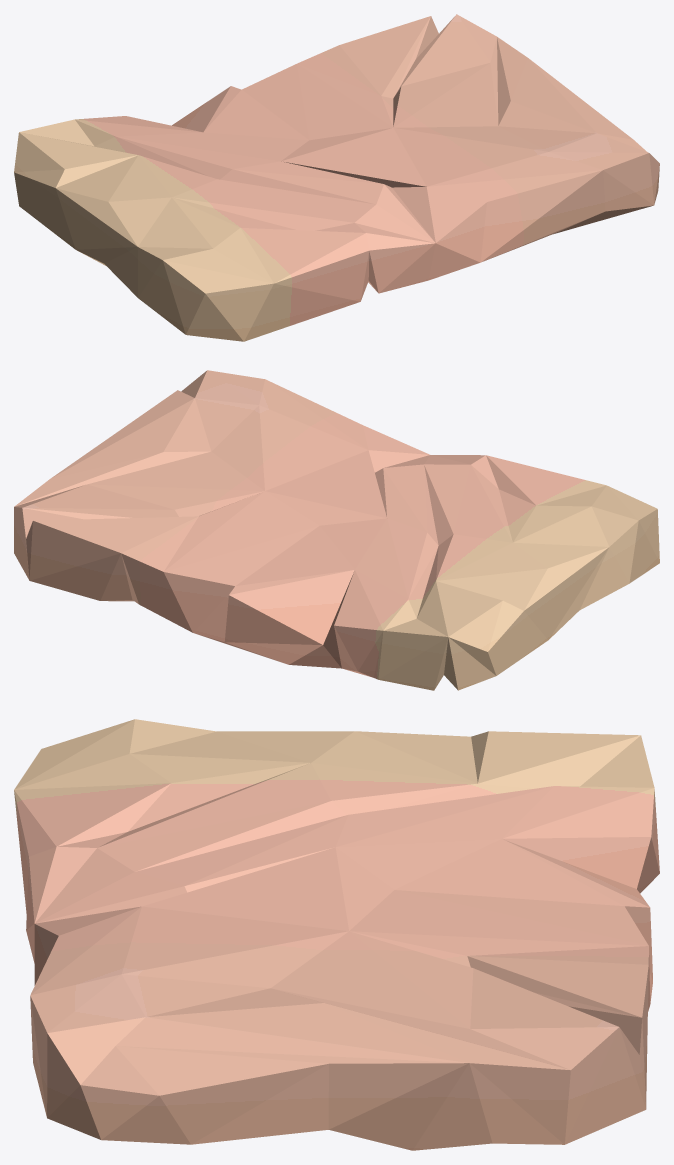
The model's file is DC_Stair3.fbx.
3 views of the same model, one above another, from view 1: azimuth 30°, elevation 25°; view 2: azimuth 150°, elevation 25°; view 3: azimuth 270°, elevation 25° (orthographic). The views are drawn at different scales.
Visible parts, largest first — view 1: Stair3; view 2: Stair3; view 3: Stair3.
Boxes of the visible parts, x1,y1,x2,y2 form: Stair3: (14,14,659,341); Stair3: (14,370,659,690); Stair3: (14,719,659,1150).
Bounding box in the file's own units: 3.37 × 0.5476 × 2.51.
Materials: 1 (1 with a texture image).
